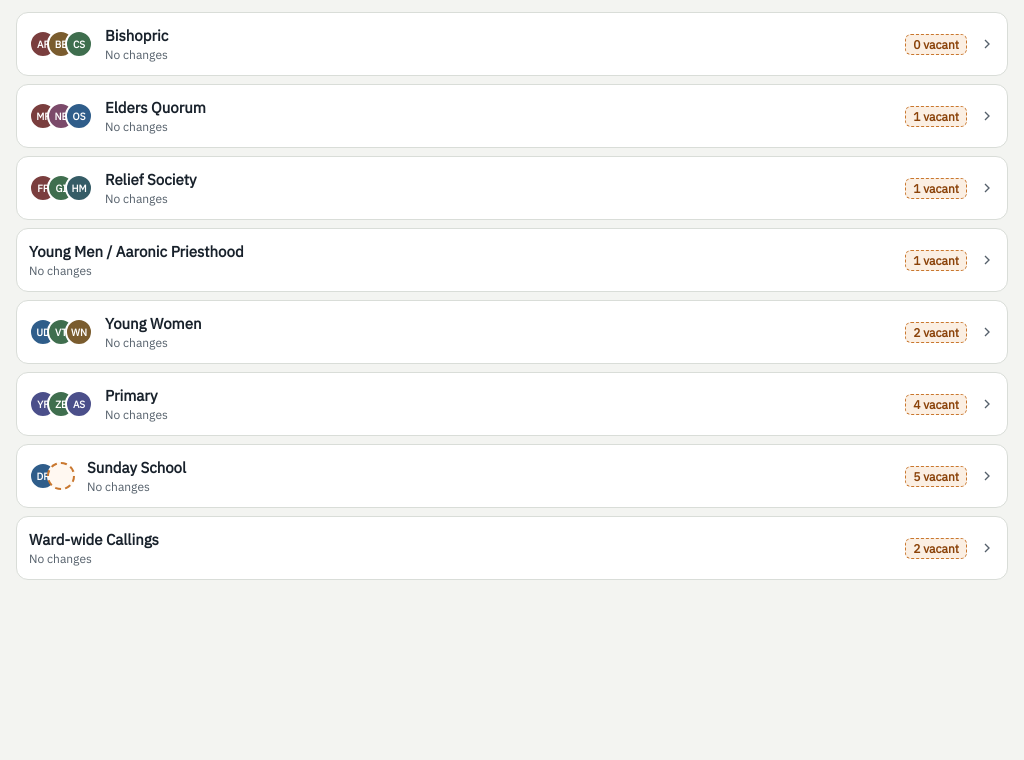
Test: PhoneBoard › list buttons open an organization
This screenshot has width=1024, height=760.
Expected: the text "Primary" is shown, [105, 386, 158, 405]
Expected: the 1st text "No changes" is shown, [105, 47, 168, 62]
Click the button with aria-label "Primary,". click: (131, 396)
box: [16, 372, 1008, 436]
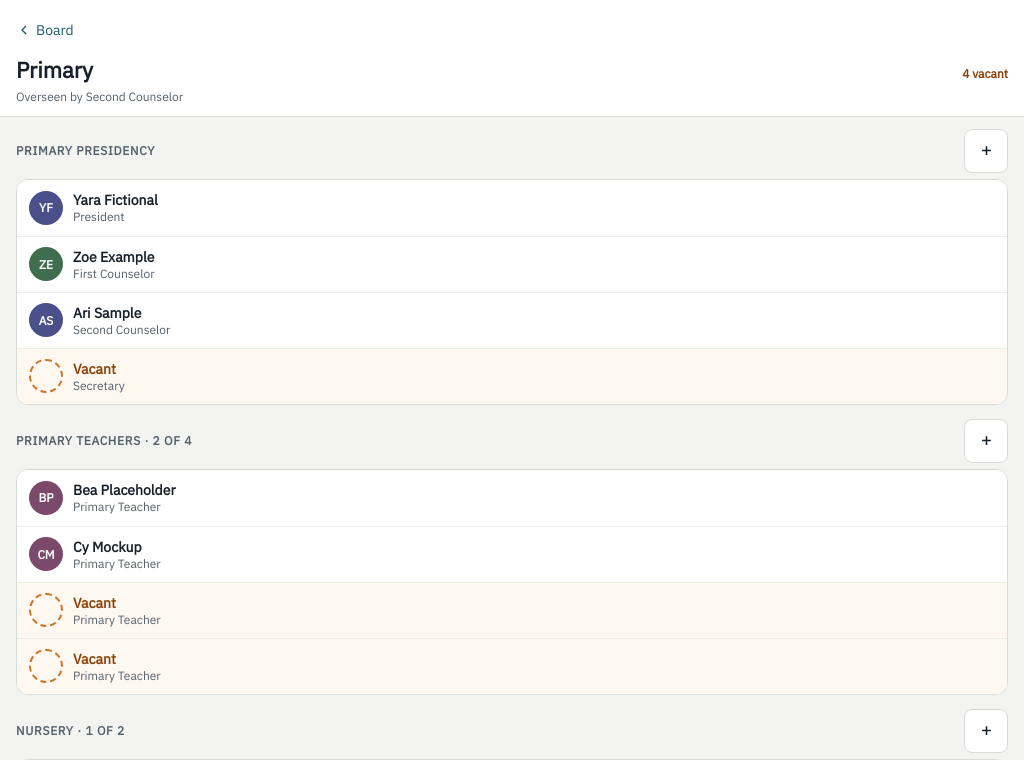
Now the heading "Primary" is shown, box [16, 56, 93, 85]
Now the text "Yara Fictional" is shown, box [73, 191, 158, 209]
Now the button "Board" is shown, box [8, 8, 82, 52]
